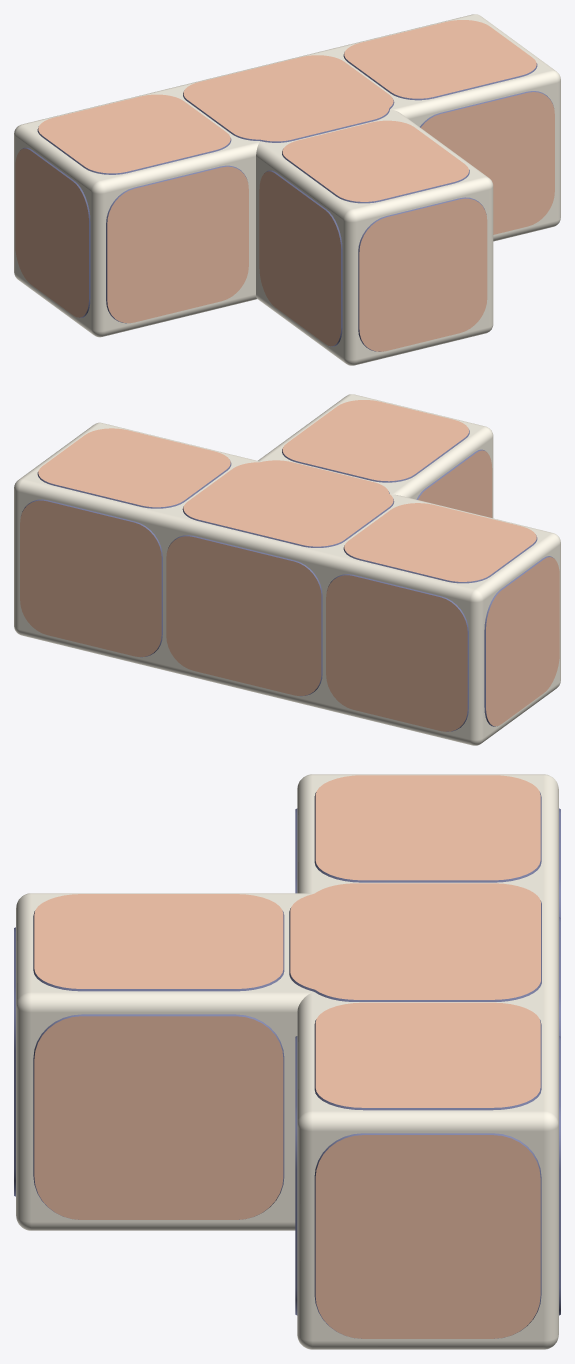
The model's file is R4B_Tee4.fbx.
3 renders of one model, top to bottom at view 1: azimuth 30°, elevation 25°; view 2: azimuth 150°, elevation 25°; view 3: azimuth 270°, elevation 25°, orthographic. The views are drawn at different scales.
Visible parts, largest first — view 1: R4B_Tee4; view 2: R4B_Tee4; view 3: R4B_Tee4.
Boxes of the visible parts, bbox=[...] form: R4B_Tee4: bbox=[14, 14, 560, 365]; R4B_Tee4: bbox=[14, 394, 560, 745]; R4B_Tee4: bbox=[14, 774, 560, 1349].
Size of the model in its own units: 1.62 by 0.52 by 1.07.
